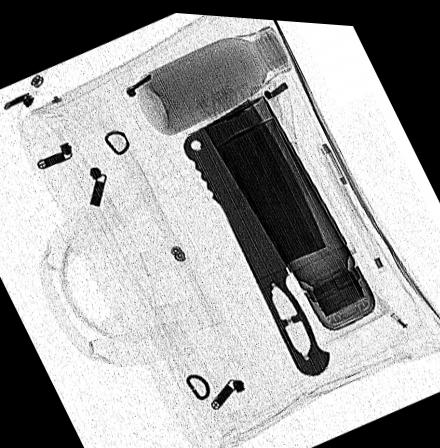Knife: (181, 93, 330, 373)
